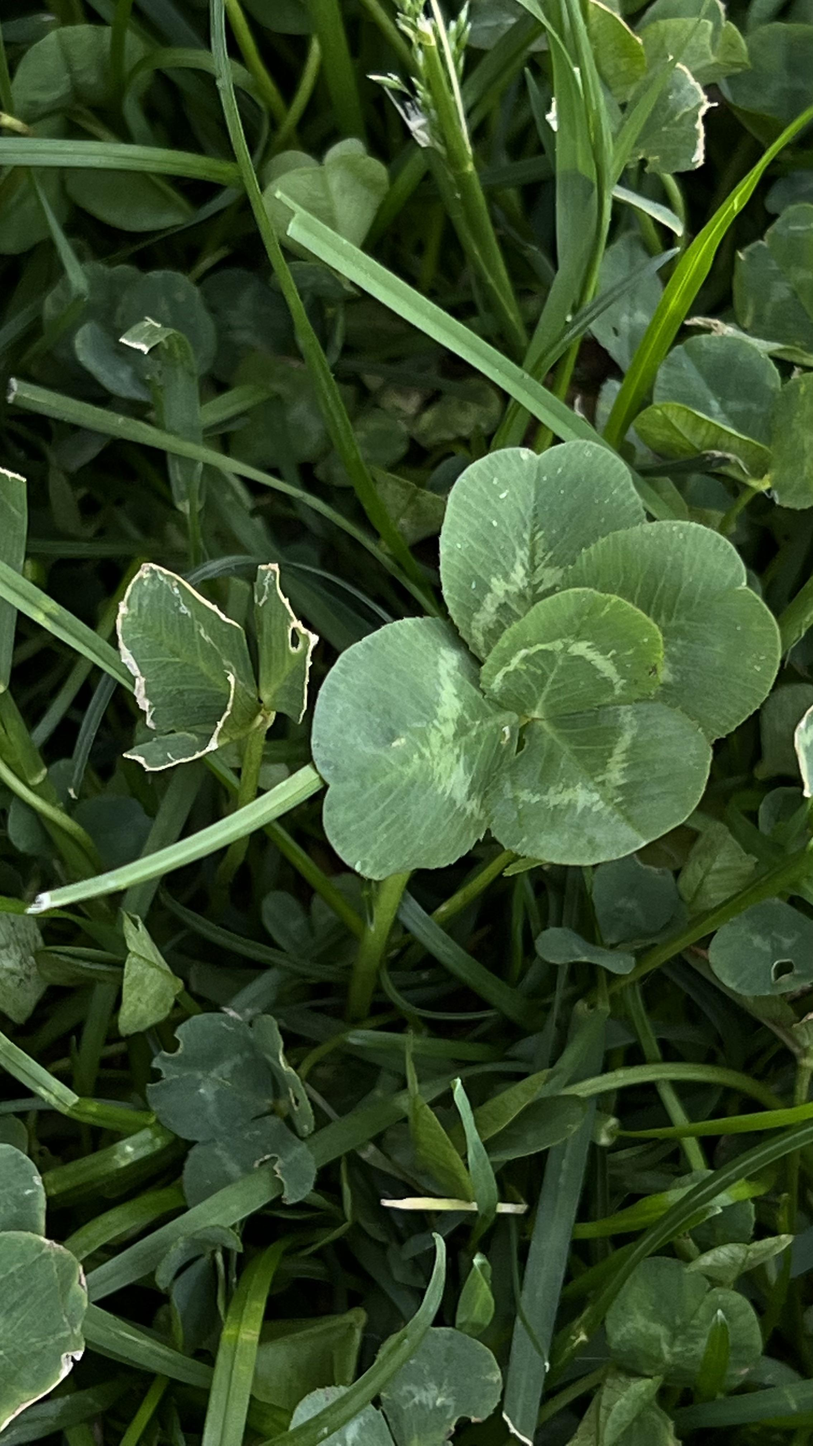5-Leaf-Clovers: (321, 441, 784, 885)
